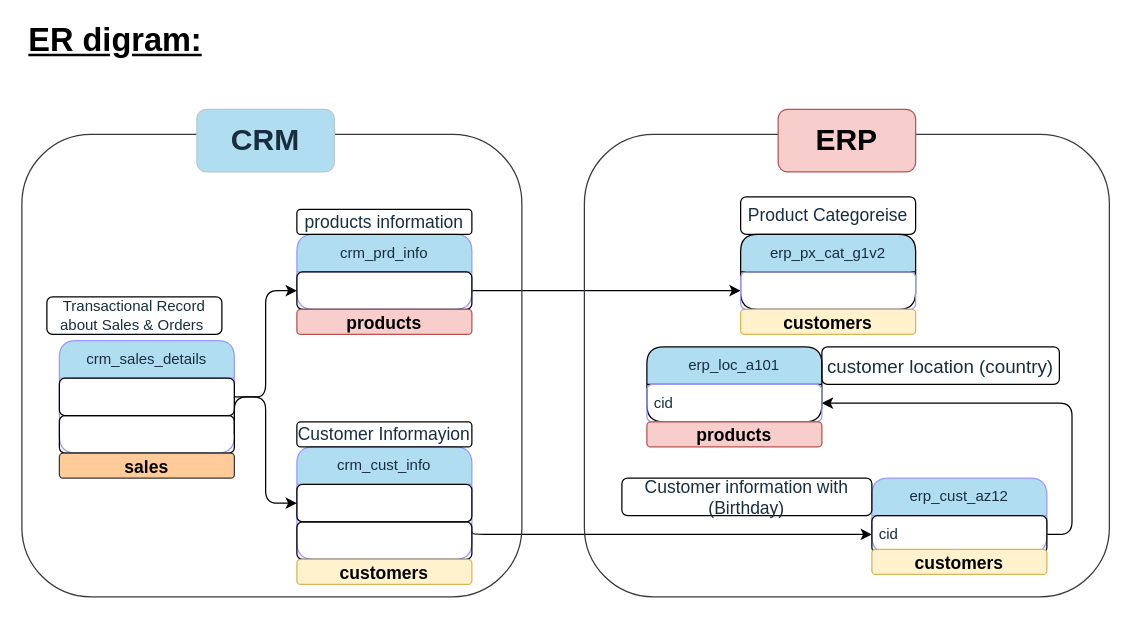
The diagram is 1131 pixels wide and 619 high, and some of its shapes have lost their labels. Here are the shapes that lost their labels. From the top down, the centre of each, then its label:
At (384,290): "prd_key".
At (827,290): "id".
At (146,396): "sls_cust_id".
At (146,433): "sls_prd_key".
At (384,502): "cst_id".
At (384,540): "cst_key".
